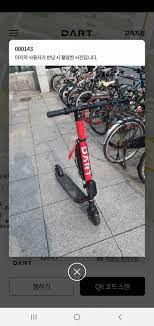kick_board: (47, 102, 101, 224)
kick_handler: (44, 101, 107, 119)
kick_neck: (76, 123, 93, 199)
kick_wheel: (89, 206, 101, 227), (54, 165, 60, 179)
